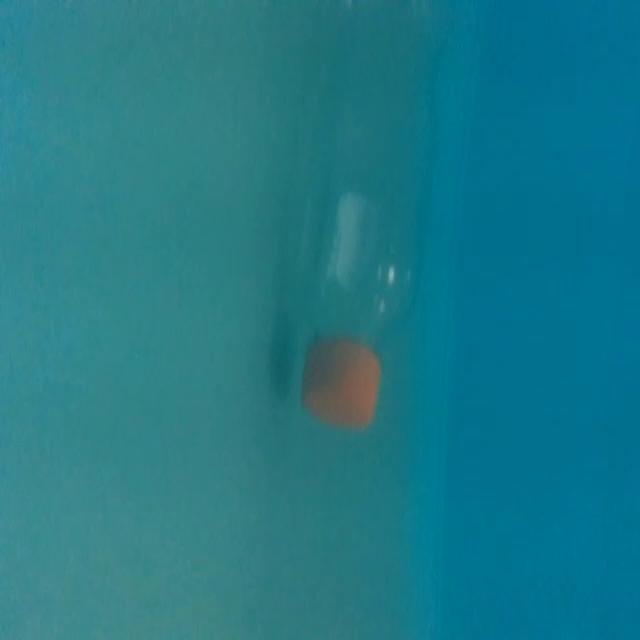plastic bottle: (286, 20, 444, 438)
